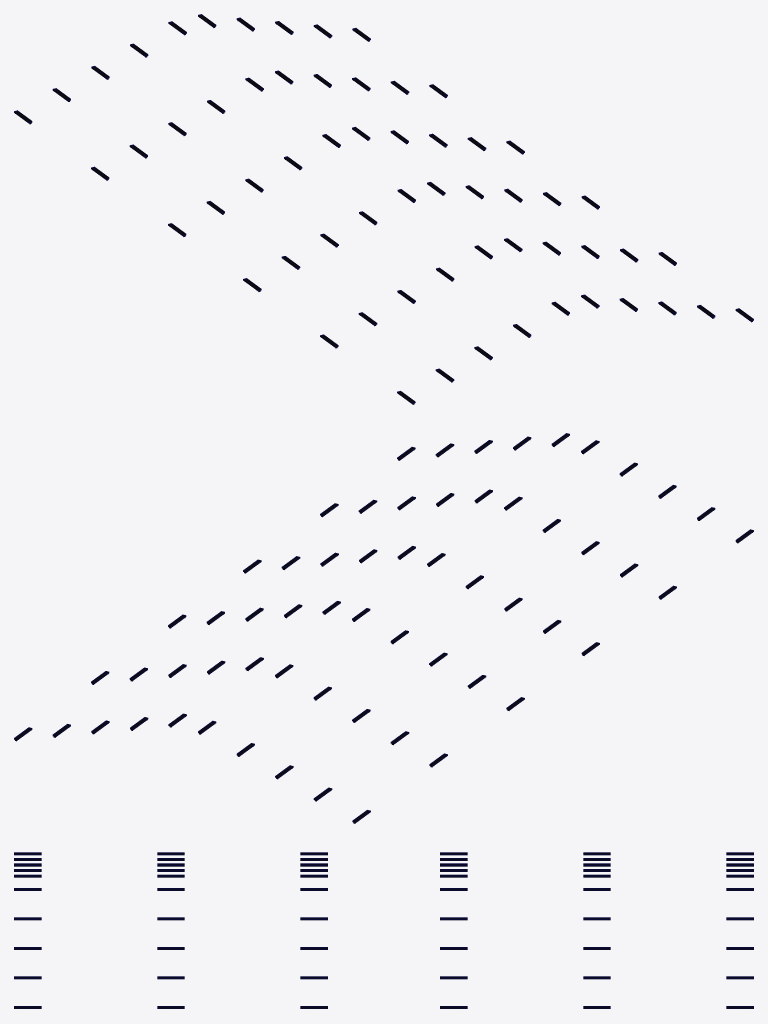
The model's file is Hanger_LightBase.fbx.
3 views of the same model, one above another, from view 1: azimuth 30°, elevation 25°; view 2: azimuth 150°, elevation 25°; view 3: azimuth 270°, elevation 25° (orthographic). The views are drawn at different scales.
Parts seen in each view (by area): view 1: Hanger_LightBase; view 2: Hanger_LightBase; view 3: Hanger_LightBase.
Part boxes in pixels (x1,y1,x2,y2): Hanger_LightBase: (14, 14, 753, 404); Hanger_LightBase: (14, 433, 753, 823); Hanger_LightBase: (14, 852, 753, 1008).
Bounding box in the file's own units: 3524 × 534 × 7100.
